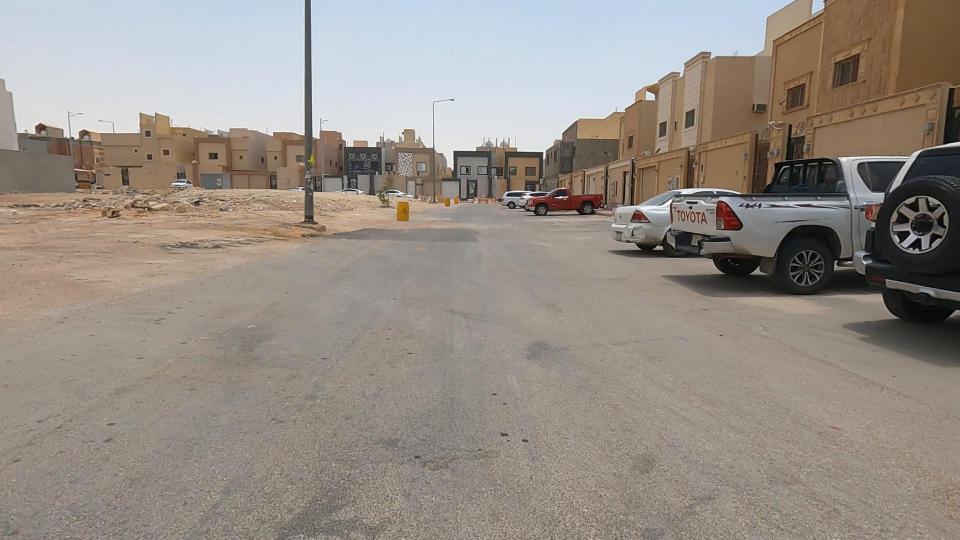GARBAGE: (101, 168, 229, 241), (202, 187, 253, 231)
